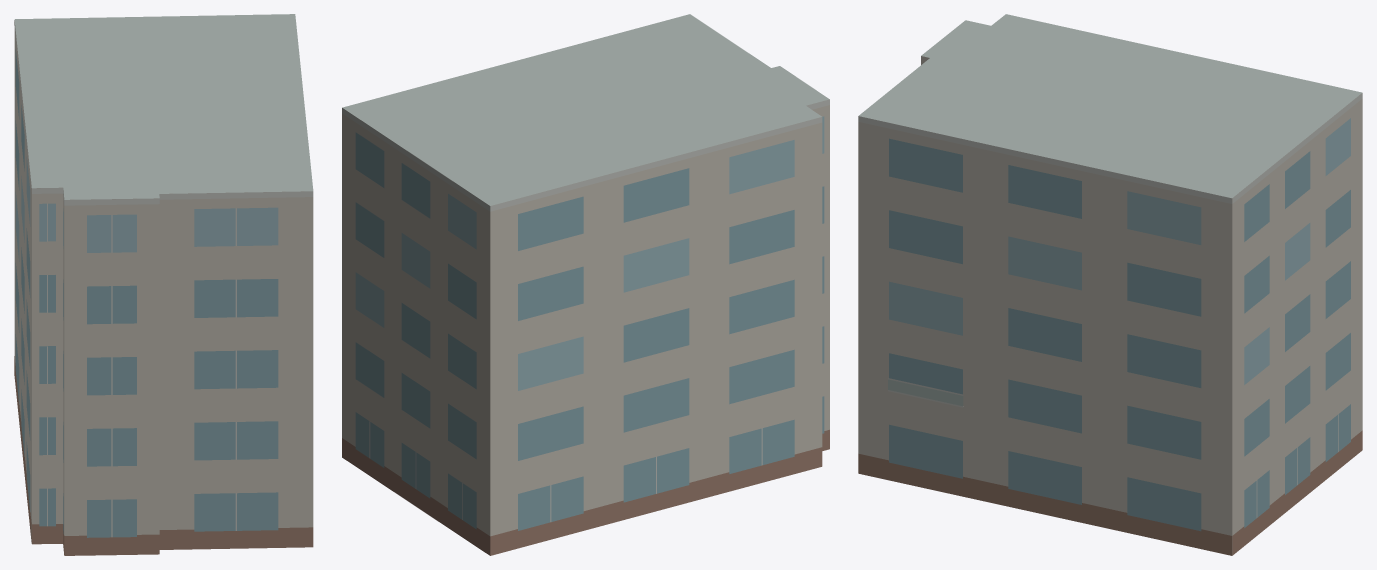
Rendered from survey-upis-32530327.glb.
The picture shows the model from 3 angles, left to right: view 1: azimuth 30°, elevation 25°; view 2: azimuth 150°, elevation 25°; view 3: azimuth 270°, elevation 25°; orthographic projection. The views are drawn at different scales.
Parts seen in each view (by area): view 1: survey-upis-32530327.tmp; view 2: survey-upis-32530327.tmp; view 3: survey-upis-32530327.tmp.
Boxes of the visible parts, x1,y1,x2,y2 form: survey-upis-32530327.tmp: [14, 14, 313, 555]; survey-upis-32530327.tmp: [342, 14, 829, 555]; survey-upis-32530327.tmp: [858, 14, 1362, 555].
Bounding box in the file's own units: 16.65 × 15.05 × 19.25.
